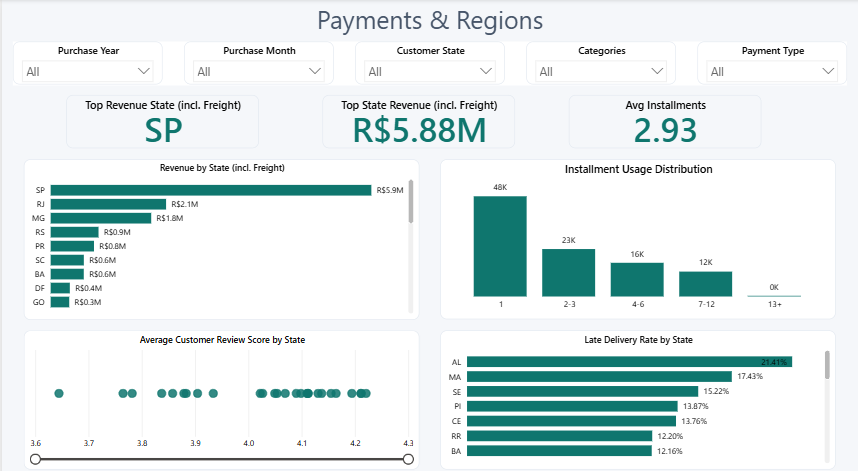

This screenshot's page, from the dashboard's own definition file:
{"tool":"powerbi","page":{"name":"Payments & Regions","canvas":[1280,720],"ordinal":3},"visuals":[{"type":"slicer","title":"Purchase Year","fields":{"Values":["Sheet1.order_purchase_year"]},"box":[16,64,224,64],"z":0,"group":"g1"},{"type":"card","title":"Top Revenue State (incl. Freight)","fields":{"Values":["Sheet1.Top_State"]},"box":[96,144,288,80],"z":0},{"type":"slicer","title":"Purchase Month","fields":{"Values":["Sheet1.order_purchase_month_name"]},"box":[272,64,224,64],"z":1000,"group":"g1"},{"type":"card","title":"Top State Revenue (incl. Freight)","fields":{"Values":["Sheet1.Top_State_Revenue"]},"box":[480,144,288,80],"z":1000},{"type":"slicer","title":"Customer State","fields":{"Values":["Sheet1.customer_state"]},"box":[528,64,224,64],"z":2000,"group":"g1"},{"type":"card","title":"Avg Installments","fields":{"Values":["Sheet1.Avg Installments"]},"box":[848,144,288,80],"z":2000},{"type":"textbox","box":[16,0,1248,64],"z":3000},{"type":"slicer","title":"Categories","fields":{"Values":["Sheet1.main_category"]},"box":[784,64,224,64],"z":3000,"group":"g1"},{"type":"group","id":"g1","title":"Group 1","box":[16,64,1248,64],"z":4000},{"type":"slicer","title":"Payment Type","fields":{"Values":["Sheet1.main_payment_type"]},"box":[1040,64,224,64],"z":4000,"group":"g1"},{"type":"clusteredBarChart","title":"Revenue by State (incl. Freight)","fields":{"Y":["Sum(Sheet1.order_total_cost_to_customer)"],"Category":["Sheet1.customer_state"]},"box":[32,240,592,240],"z":5000},{"type":"clusteredColumnChart","title":"Installment Usage Distribution","fields":{"Y":["CountNonNull(Sheet1.order_id)"],"Category":["Sheet1.installment_bucket"]},"box":[655.4,239.7,591.9,239.7],"z":6000},{"type":"scatterChart","title":"Average Customer Review Score by State","fields":{"Category":["Sheet1.customer_state"],"X":["Avg(Sheet1.review_score)"]},"box":[32,496,592,208],"z":7000},{"type":"clusteredBarChart","title":"Late Delivery Rate by State","fields":{"Category":["Sheet1.customer_state"],"Y":["Sheet1.Late_delivery_rate"]},"box":[656,496,592,208],"z":8000}]}

Visuals, with their boxes in screenshot pixels (x1, y1, x2, y2), scaled from the page's 1280x720 canvas onto the 858x471 screenshot:
"Purchase Year" slicer: 11,42,161,84
"Top Revenue State (incl. Freight)" card: 64,94,257,147
"Purchase Month" slicer: 182,42,332,84
"Top State Revenue (incl. Freight)" card: 322,94,515,147
"Customer State" slicer: 354,42,504,84
"Avg Installments" card: 568,94,761,147
textbox: 11,0,847,42
"Categories" slicer: 526,42,676,84
"Group 1" group: 11,42,847,84
"Payment Type" slicer: 697,42,847,84
"Revenue by State (incl. Freight)" clusteredBarChart: 21,157,418,314
"Installment Usage Distribution" clusteredColumnChart: 439,157,836,314
"Average Customer Review Score by State" scatterChart: 21,324,418,461
"Late Delivery Rate by State" clusteredBarChart: 440,324,837,461
